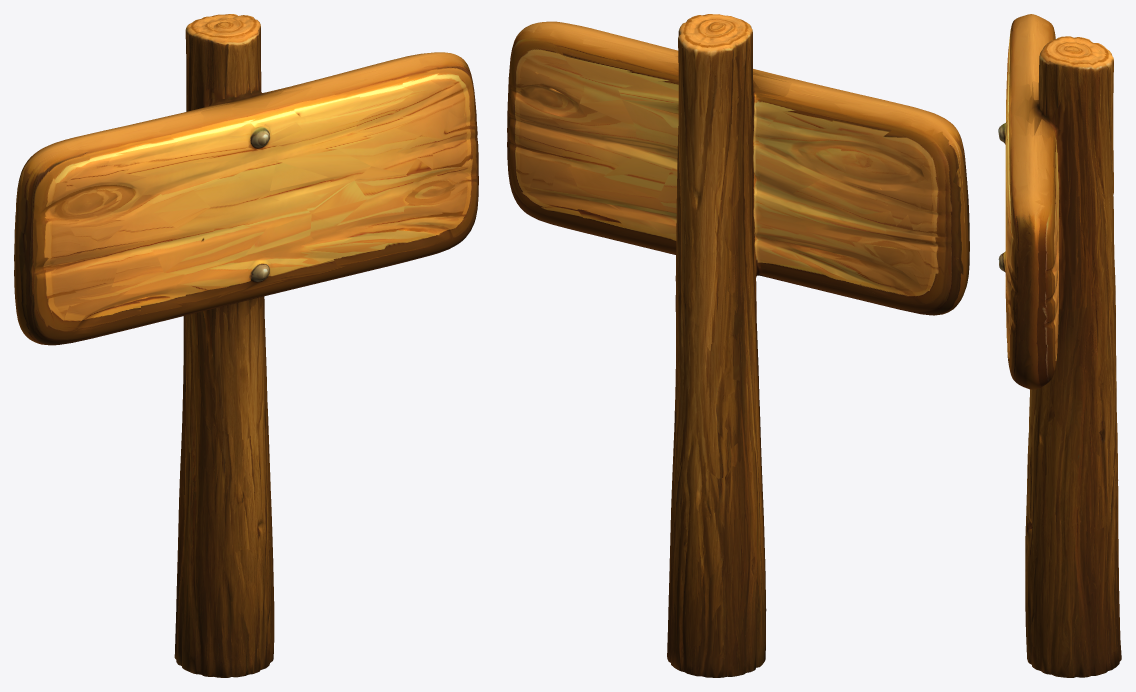
Rendered from Meshy_AI_Golden_Signpost_0504103557_texture.fbx.
The picture shows the model from 3 angles, left to right: view 1: azimuth 30°, elevation 25°; view 2: azimuth 150°, elevation 25°; view 3: azimuth 270°, elevation 25°; orthographic projection. The views are drawn at different scales.
Visible parts, largest first — view 1: Mesh_0; view 2: Mesh_0; view 3: Mesh_0.
Boxes of the visible parts, x1,y1,x2,y2 form: Mesh_0: (14, 14, 478, 677); Mesh_0: (507, 14, 969, 677); Mesh_0: (998, 14, 1121, 677).
Size of the model in its own units: 144 by 190 by 34.84.
